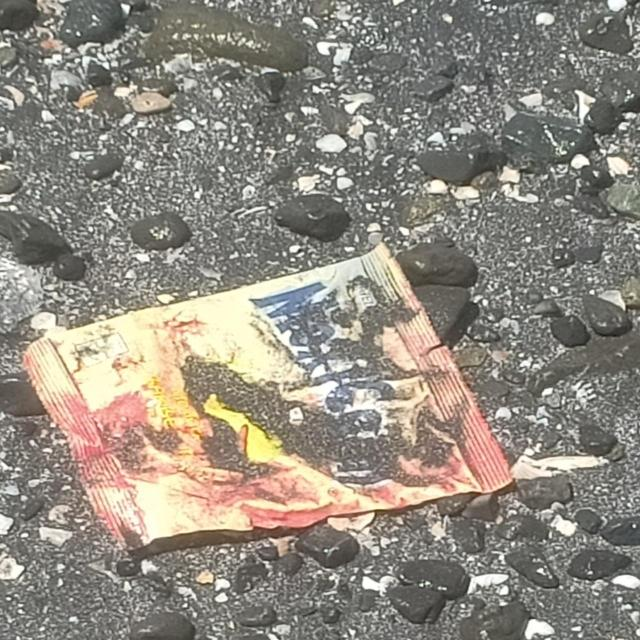plastic_waste: (21, 240, 517, 555)
